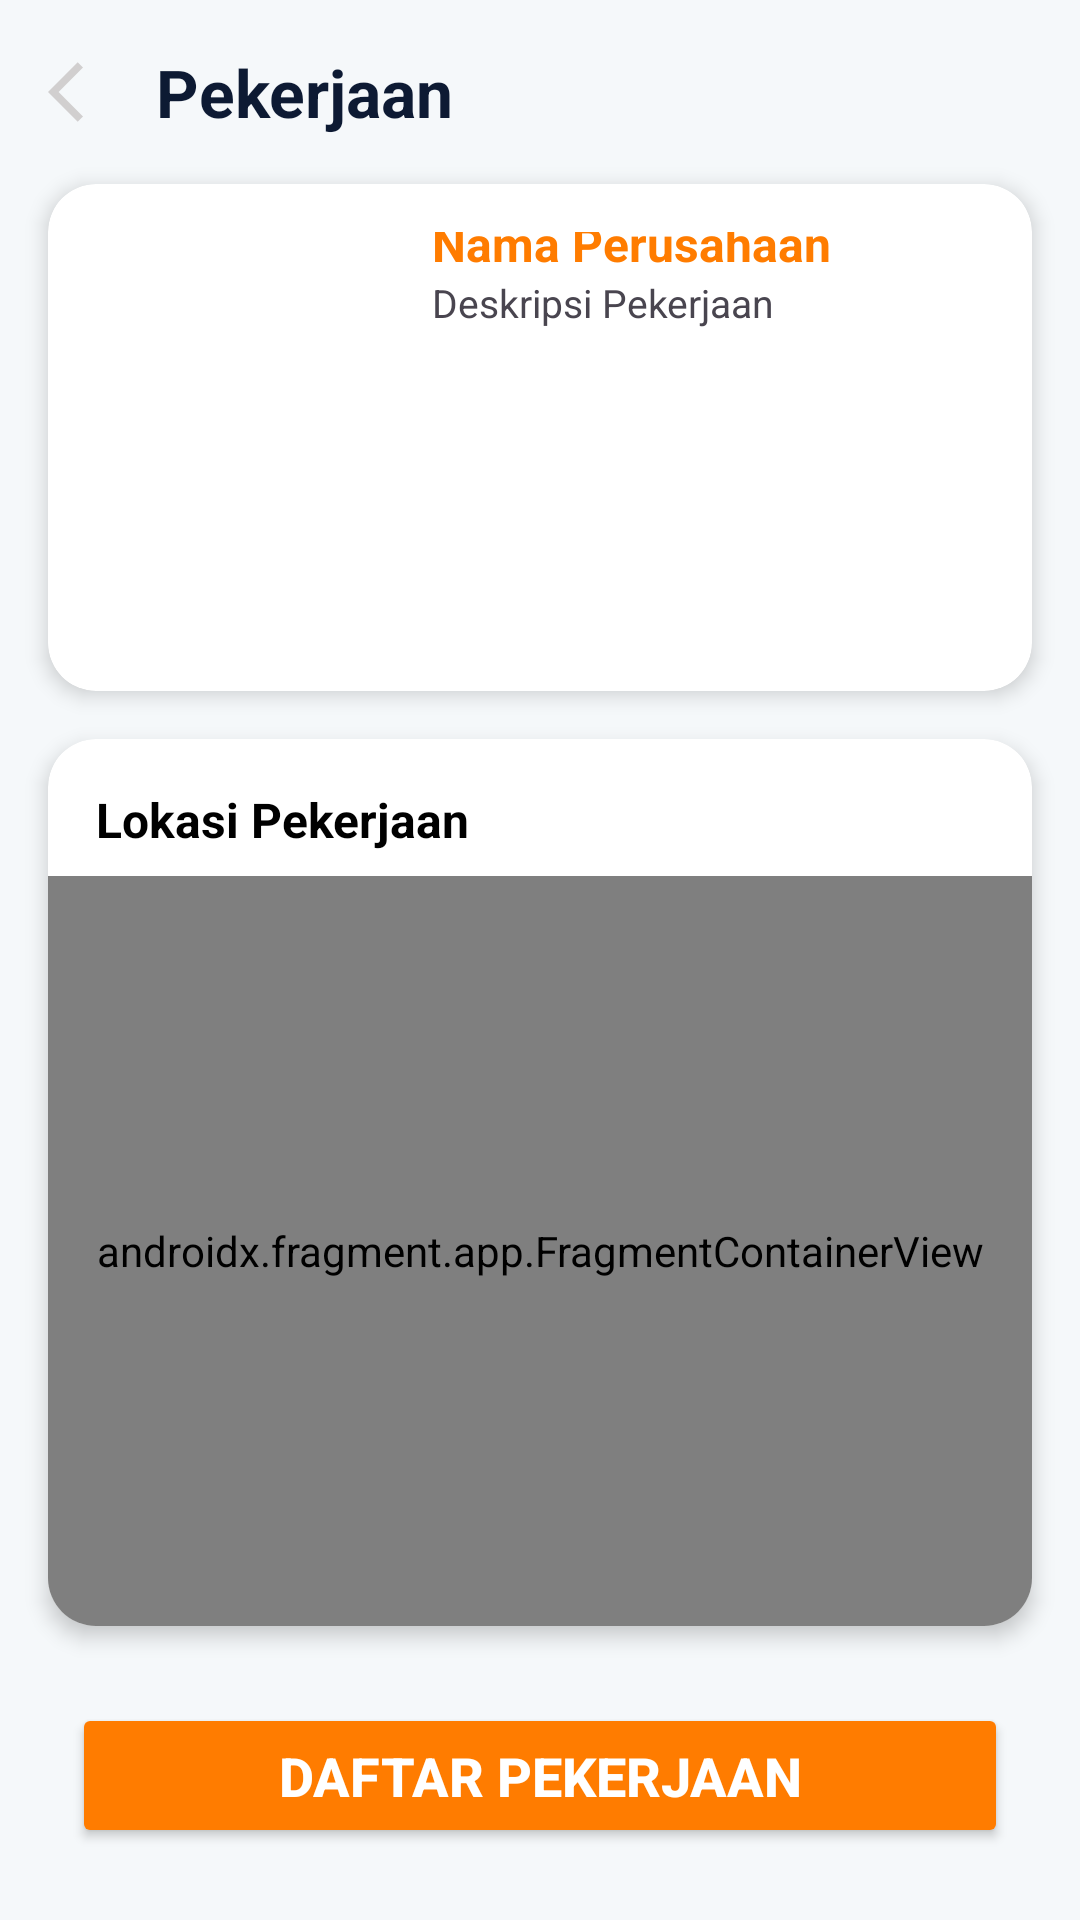

Where icons sit on this 1080px×1920px app screen, as (x1, y1, x2, y2):
Back: (49, 63, 83, 121)
